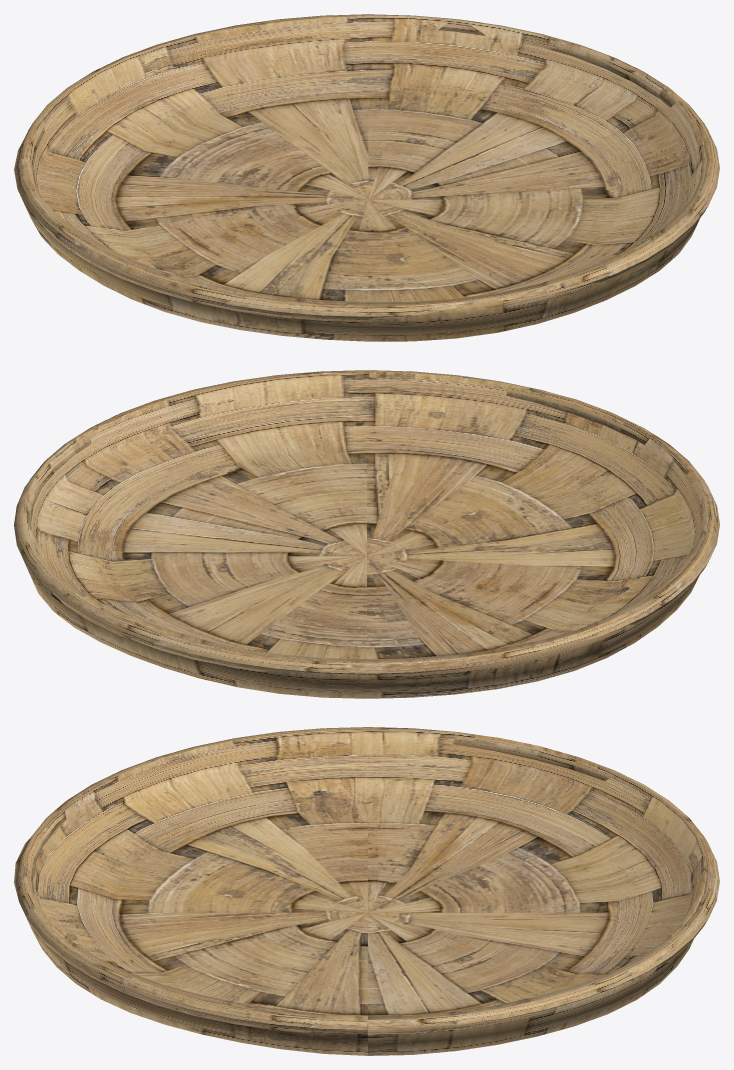
File: prop_kula.glb
The picture shows the model from 3 angles, top to bottom: view 1: azimuth 30°, elevation 25°; view 2: azimuth 150°, elevation 25°; view 3: azimuth 270°, elevation 25°; orthographic projection.
Parts seen in each view (by area): view 1: prop_kula; view 2: prop_kula; view 3: prop_kula.
Boxes of the visible parts, <box> form: prop_kula: <box>14,14,719,341</box>; prop_kula: <box>14,370,719,698</box>; prop_kula: <box>14,727,719,1055</box>.
Size of the model in its own units: 0.5 by 0.045 by 0.5.
1 material, 1 textured.
